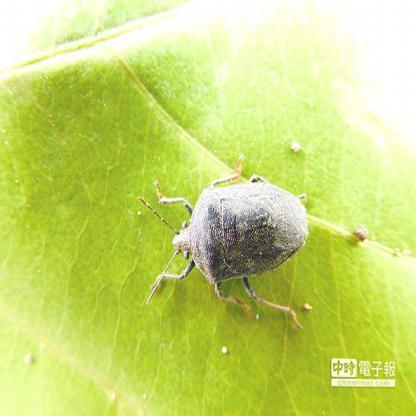rice-bug: (143, 160, 316, 315)
